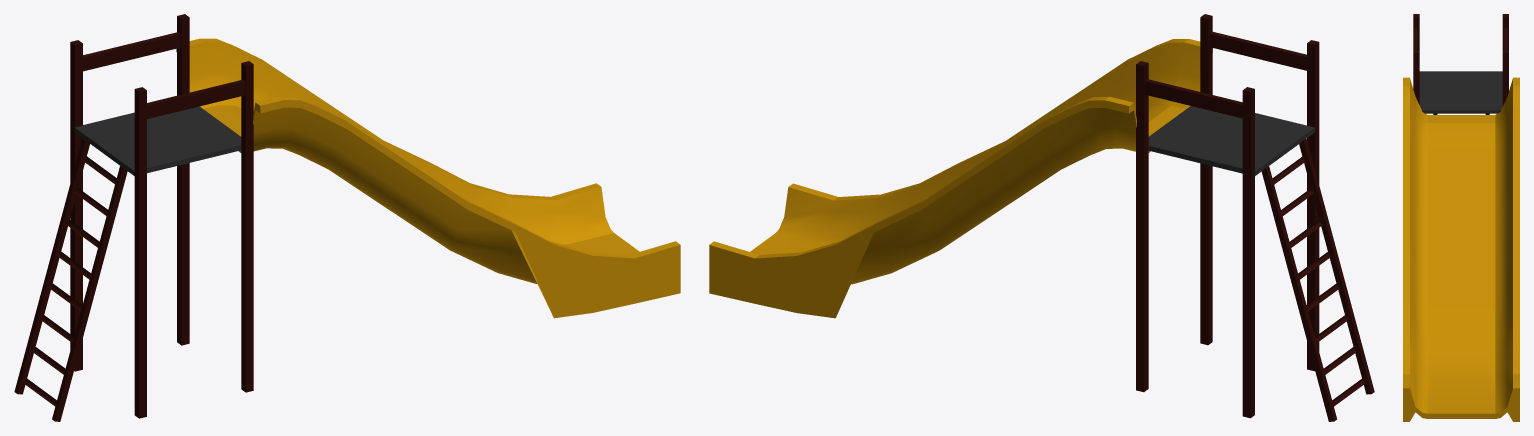
Rendered from slide.obj.
3 renders of one model, left to right at view 1: azimuth 30°, elevation 25°; view 2: azimuth 150°, elevation 25°; view 3: azimuth 270°, elevation 25°, orthographic. The views are drawn at different scales.
Visible parts, largest first — view 1: slide, base_poles, ladder, base_platform, safety_planks; view 2: slide, base_poles, ladder, base_platform, safety_planks; view 3: slide, base_platform, base_poles, safety_planks.
Boxes of the visible parts, x1,y1,x2,y2 form: slide: (176, 38, 680, 318); base_poles: (70, 14, 253, 418); ladder: (14, 138, 127, 421); base_platform: (74, 106, 241, 175); safety_planks: (83, 32, 245, 118); slide: (709, 39, 1212, 318); base_poles: (1136, 14, 1319, 418); ladder: (1261, 139, 1374, 421); base_platform: (1148, 106, 1314, 175); safety_planks: (1144, 31, 1306, 118); slide: (1403, 77, 1519, 421); base_platform: (1419, 71, 1502, 113); base_poles: (1413, 14, 1508, 106); safety_planks: (1413, 27, 1507, 50).
Size of the model in its own units: 37.17 by 19.2 by 8.96.
